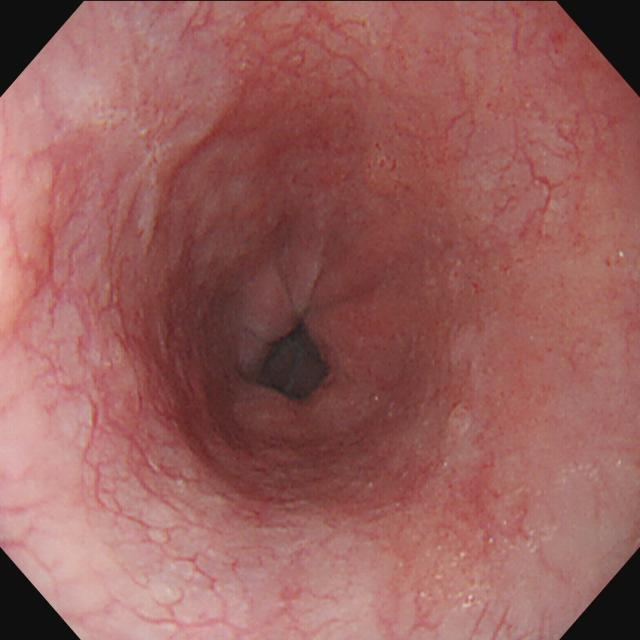E: (249, 313, 338, 409)
I: (183, 213, 433, 466)
